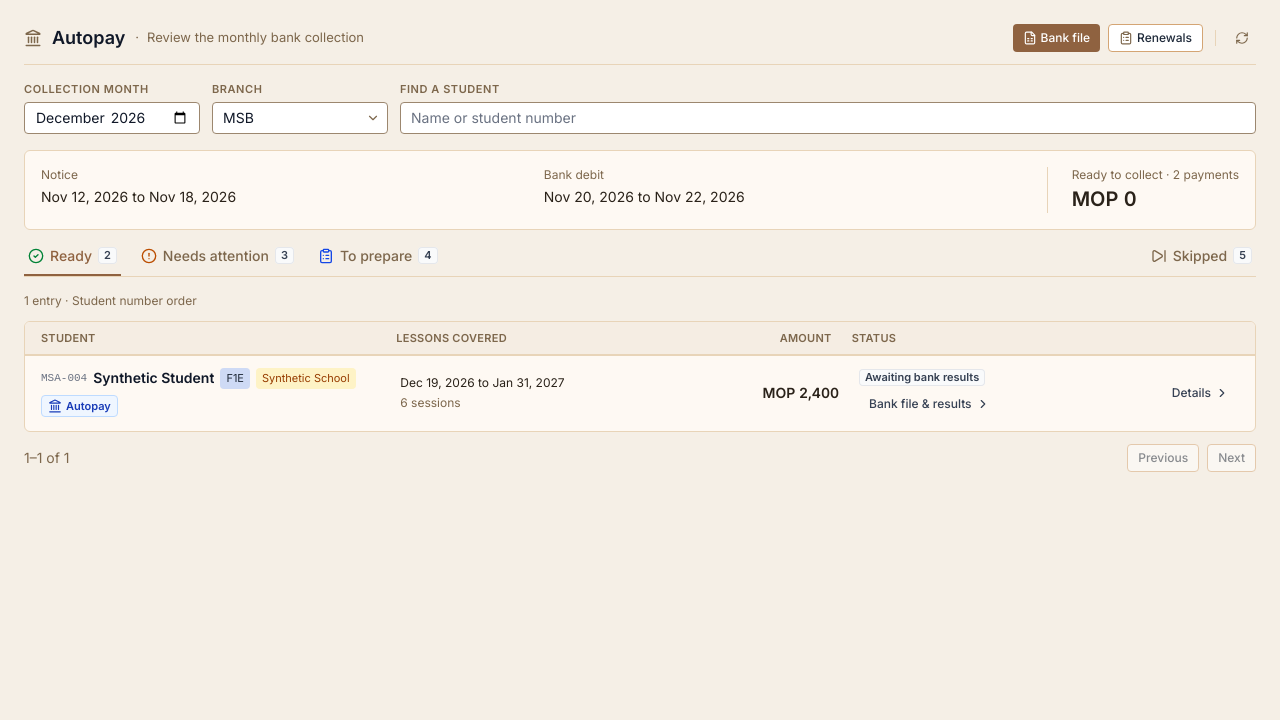
Scenario: autopay collection review › opens the exact saved run month and profile branch while preserving the familiar Details action
This screenshot has width=1280, height=720.
expect the text "Awaiting bank results" is shown: met, box [859, 368, 985, 386]
expect the button with aria-label "Details for Synthetic Student" is shown: met, box [1162, 379, 1239, 407]
Click the button with aria-label "Bank file & results for Synthetic Student" at (929, 404), box [859, 390, 1000, 418]
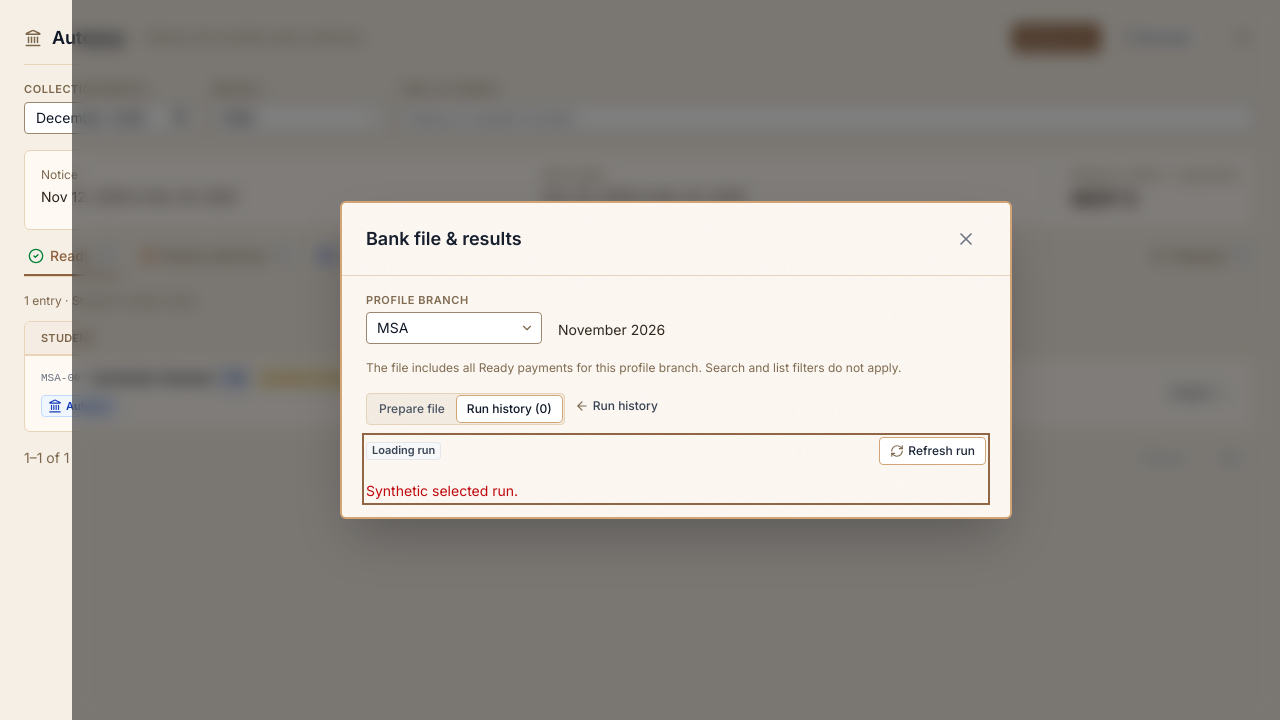
expect the text "Synthetic selected run." is shown: met, box [366, 482, 518, 499]
expect the dropdown labelled "Profile branch" shows "MSA": met, box [366, 312, 542, 344]
expect the text "November 2026" is shown: met, box [558, 320, 665, 344]
